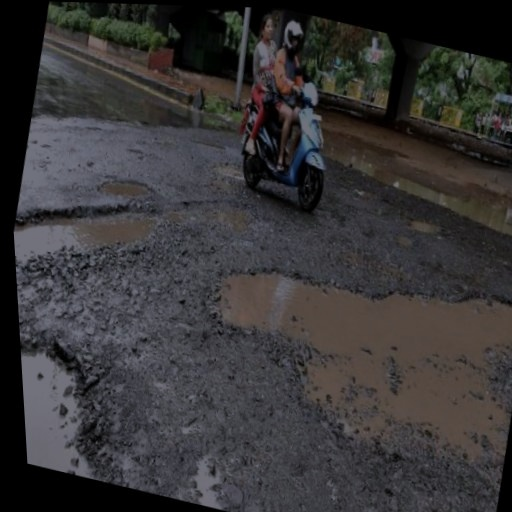pothole: (183, 225, 512, 478), (10, 176, 169, 294), (19, 323, 132, 481), (96, 168, 157, 207)
